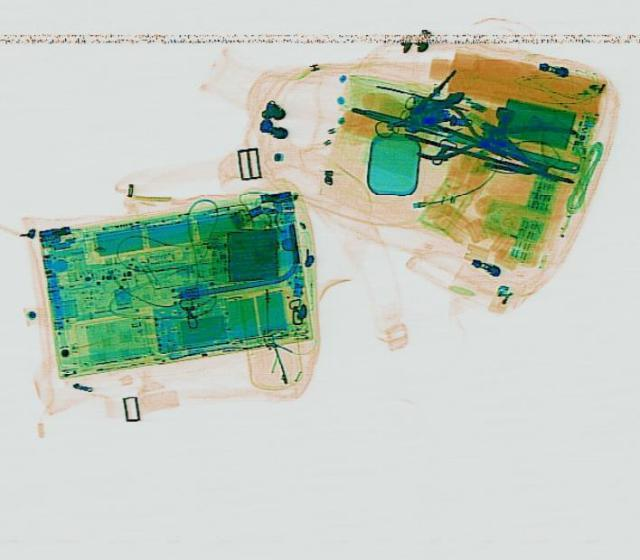Pliers: (468, 102, 596, 183), (409, 100, 517, 175)
